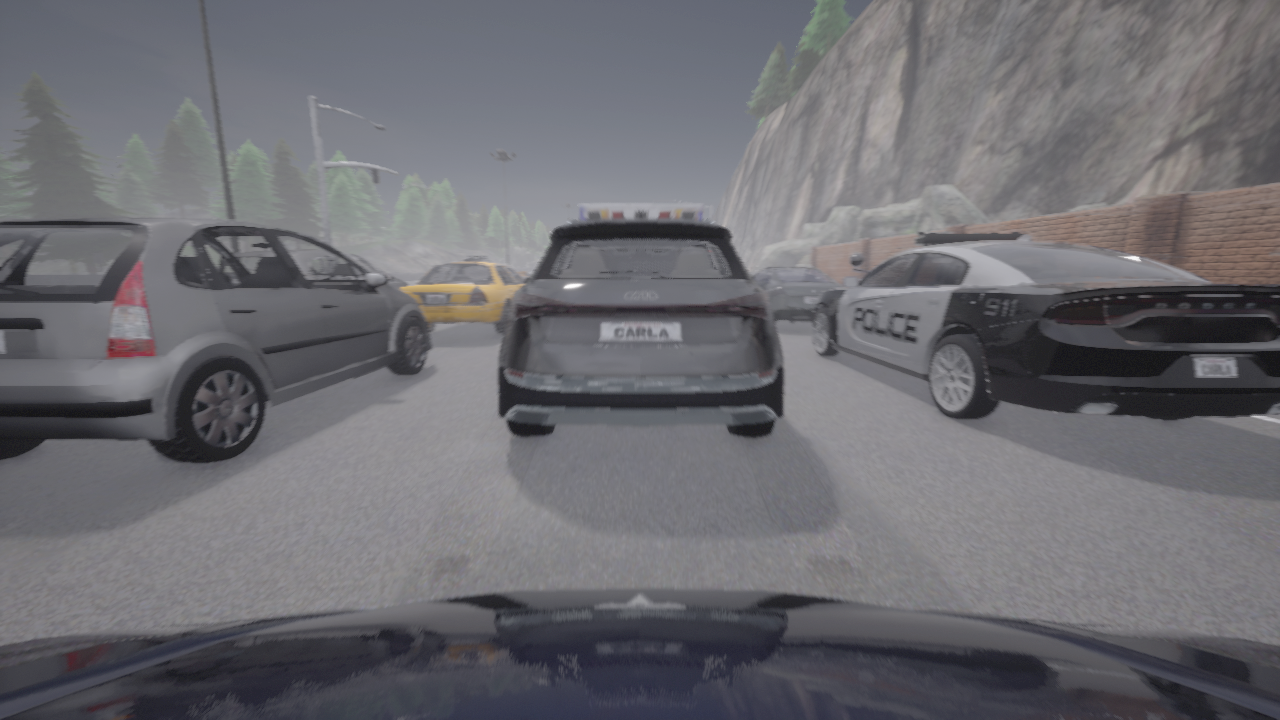cyclist: (0, 588, 1279, 719), (0, 217, 432, 463), (812, 232, 1279, 420), (498, 211, 783, 437), (398, 255, 528, 334), (752, 266, 843, 323), (344, 253, 407, 288), (578, 204, 703, 221)
